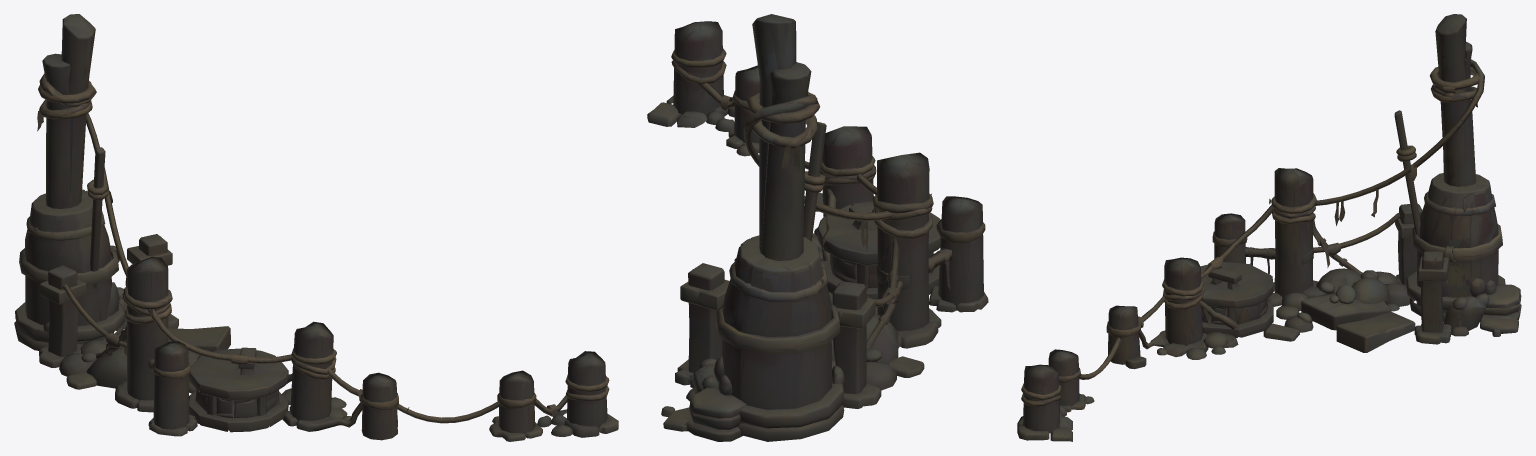
File: tripo_convert_c3498fdd-d11f-4366-a659-ae7ee74ec6a8.fbx
The picture shows the model from 3 angles, left to right: view 1: azimuth 30°, elevation 25°; view 2: azimuth 150°, elevation 25°; view 3: azimuth 270°, elevation 25°; orthographic projection. The views are drawn at different scales.
Visible parts, largest first — view 1: tripo_node_c3498fdd; view 2: tripo_node_c3498fdd; view 3: tripo_node_c3498fdd.
Part boxes in pixels (x1=…): tripo_node_c3498fdd: x1=14, y1=14, x2=618, y2=441; tripo_node_c3498fdd: x1=647, y1=14, x2=988, y2=441; tripo_node_c3498fdd: x1=1017, y1=14, x2=1521, y2=441.
Size of the model in its own units: 0.7817 by 0.6372 by 0.9995.
1 material, 1 textured.
